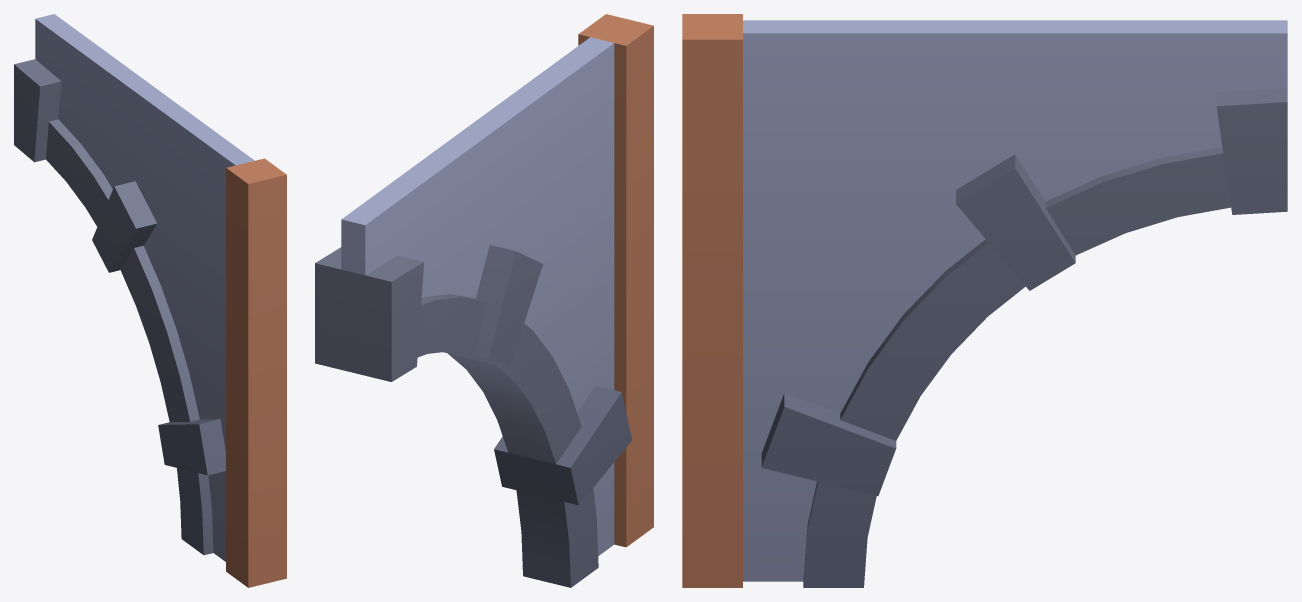
The model's file is wall-arch-top-detail.glb.
3 views of the same model, side by side, from view 1: azimuth 30°, elevation 25°; view 2: azimuth 150°, elevation 25°; view 3: azimuth 270°, elevation 25° (orthographic). The views are drawn at different scales.
Parts seen in each view (by area): view 1: wall-arch-top-detail; view 2: wall-arch-top-detail; view 3: wall-arch-top-detail.
Boxes of the visible parts, x1,y1,x2,y2 form: wall-arch-top-detail: [14, 14, 286, 587]; wall-arch-top-detail: [315, 14, 653, 587]; wall-arch-top-detail: [682, 14, 1287, 587].
Bounding box in the file's own units: 0.16 × 1 × 1.
Materials: 1 (1 with a texture image).
